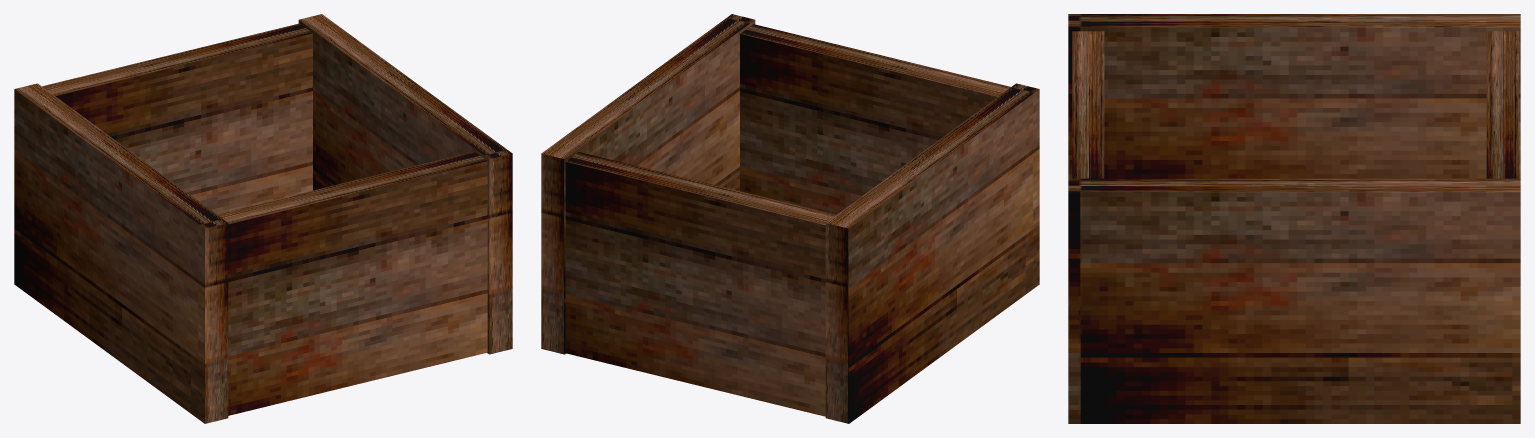
Rendered from wooden_box.glb.
The picture shows the model from 3 angles, left to right: view 1: azimuth 30°, elevation 25°; view 2: azimuth 150°, elevation 25°; view 3: azimuth 270°, elevation 25°; orthographic projection. The views are drawn at different scales.
Parts seen in each view (by area): view 1: Cube.004; view 2: Cube.004; view 3: Cube.004.
Boxes of the visible parts, left/top/right/bottom form: Cube.004: left=14, top=14, right=512, bottom=423; Cube.004: left=541, top=14, right=1039, bottom=423; Cube.004: left=1068, top=14, right=1520, bottom=423.
Bounding box in the file's own units: 0.6438 × 0.3904 × 0.6908.
1 material, 1 textured.
